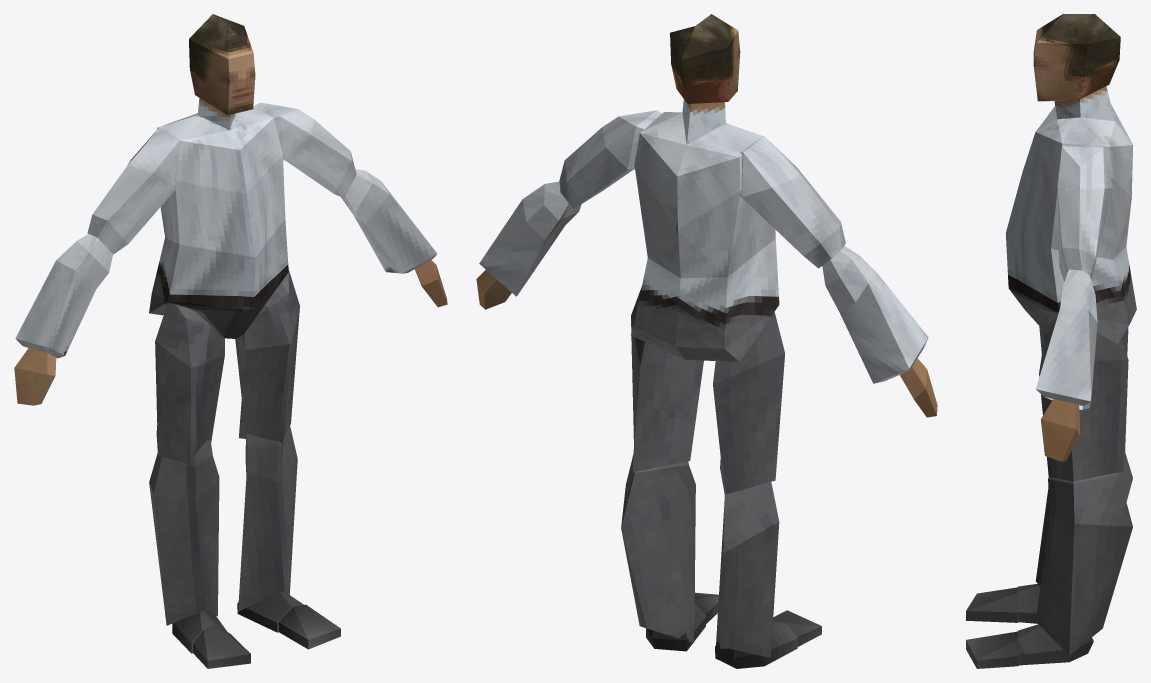
Rendered from male_model.fbx.
The picture shows the model from 3 angles, left to right: view 1: azimuth 30°, elevation 25°; view 2: azimuth 150°, elevation 25°; view 3: azimuth 270°, elevation 25°; orthographic projection. The views are drawn at different scales.
Parts seen in each view (by area): view 1: male_Torso, male_Thigh_L1 (×2), male_Calf_R1, male_Calf_L, male_Forearm_R, male_Upperarm_R, male_Head, male_Forearm_L, male_Upperarm_L, male_Hand_R, male_Toe_L, male_Toe_R (+1 smaller); view 2: male_Torso, male_Thigh_L1 (×2), male_Calf_L, male_Calf_R1, male_Forearm_R, male_Upperarm_R, male_Forearm_L, male_Head, male_Upperarm_L, male_Hand_R, male_Hand_L, male_Toe_R; view 3: male_Torso, male_Calf_L, male_Thigh_L1, male_Head, male_Upperarm_L, male_Forearm_L, male_Hand_L, male_Toe_L, male_Calf_R1, male_Toe_R.
Part boxes in pixels (bbox=[...]): male_Torso: bbox=[149, 98, 288, 338]; male_Thigh_L1 (×2): bbox=[155, 270, 299, 465]; male_Calf_R1: bbox=[149, 440, 226, 653]; male_Calf_L: bbox=[237, 426, 303, 632]; male_Forearm_R: bbox=[15, 234, 112, 358]; male_Upperarm_R: bbox=[87, 127, 180, 254]; male_Head: bbox=[189, 14, 255, 115]; male_Forearm_L: bbox=[341, 169, 437, 273]; male_Upperarm_L: bbox=[254, 102, 356, 197]; male_Hand_R: bbox=[14, 348, 56, 405]; male_Toe_L: bbox=[278, 604, 340, 649]; male_Toe_R: bbox=[193, 625, 250, 668]; male_Torso: bbox=[631, 99, 779, 361]; male_Thigh_L1 (×2): bbox=[631, 286, 784, 494]; male_Calf_L: bbox=[621, 454, 706, 651]; male_Calf_R1: bbox=[715, 482, 797, 668]; male_Forearm_R: bbox=[822, 246, 928, 383]; male_Upperarm_R: bbox=[740, 136, 845, 268]; male_Forearm_L: bbox=[479, 181, 581, 296]; male_Head: bbox=[670, 14, 740, 103]; male_Upperarm_L: bbox=[559, 110, 661, 208]; male_Hand_R: bbox=[900, 358, 937, 417]; male_Hand_L: bbox=[476, 270, 511, 309]; male_Toe_R: bbox=[773, 610, 821, 646]; male_Torso: bbox=[1005, 86, 1136, 343]; male_Calf_L: bbox=[1017, 473, 1132, 665]; male_Thigh_L1: bbox=[1039, 312, 1128, 481]; male_Head: bbox=[1033, 14, 1120, 101]; male_Upperarm_L: bbox=[1057, 145, 1113, 281]; male_Forearm_L: bbox=[1036, 269, 1097, 410]; male_Hand_L: bbox=[1040, 399, 1080, 461]; male_Toe_L: bbox=[966, 631, 1030, 668]; male_Calf_R1: bbox=[1017, 452, 1132, 623]; male_Toe_R: bbox=[966, 587, 1019, 622].
Bounding box in the file's own units: 9.29 × 12.36 × 3.09.
